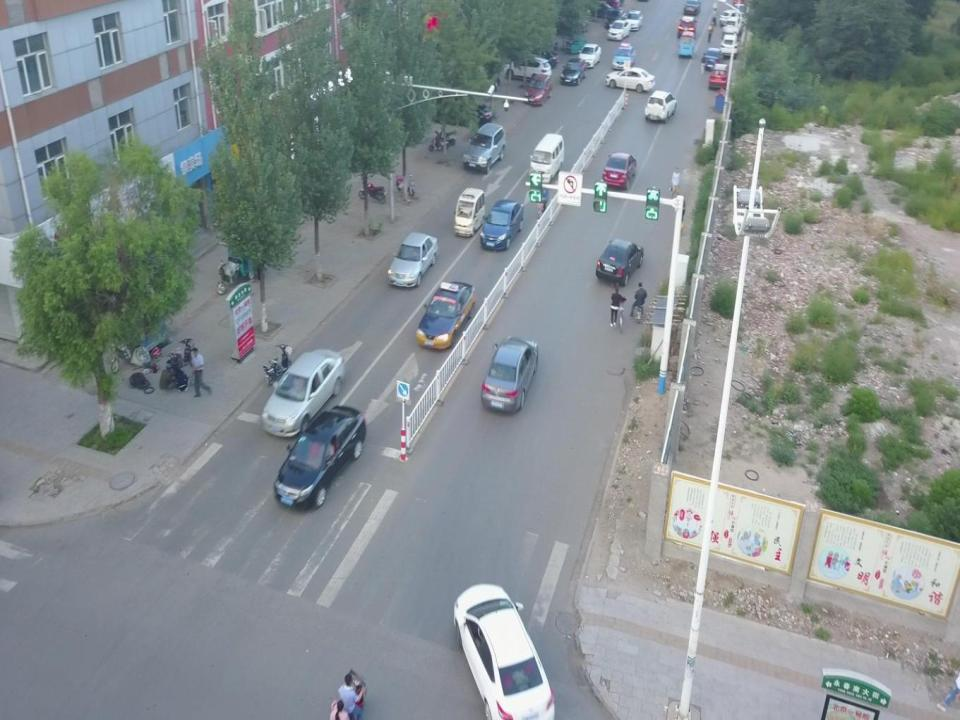car: (453, 581, 554, 720), (273, 404, 366, 509), (262, 346, 343, 438), (481, 335, 538, 412), (416, 281, 475, 350), (388, 232, 438, 285), (594, 237, 643, 289), (462, 122, 505, 174), (482, 198, 524, 250), (433, 100, 492, 127), (454, 187, 485, 236), (605, 65, 655, 92), (601, 153, 637, 189), (504, 57, 552, 82), (644, 90, 676, 122), (524, 74, 552, 106), (521, 47, 559, 67), (560, 58, 588, 84), (612, 42, 637, 70), (708, 63, 732, 90), (590, 1, 623, 20), (580, 43, 602, 69), (704, 47, 724, 72), (608, 19, 630, 40), (678, 16, 698, 38), (722, 17, 742, 37), (624, 10, 642, 32), (720, 35, 738, 57), (719, 10, 743, 26), (684, 0, 702, 14)
van: (529, 132, 564, 180)
